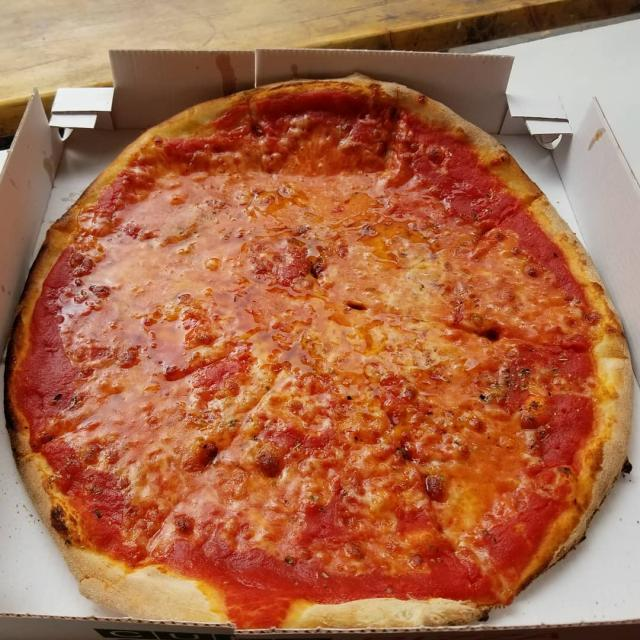pizza: (0, 72, 637, 630)
